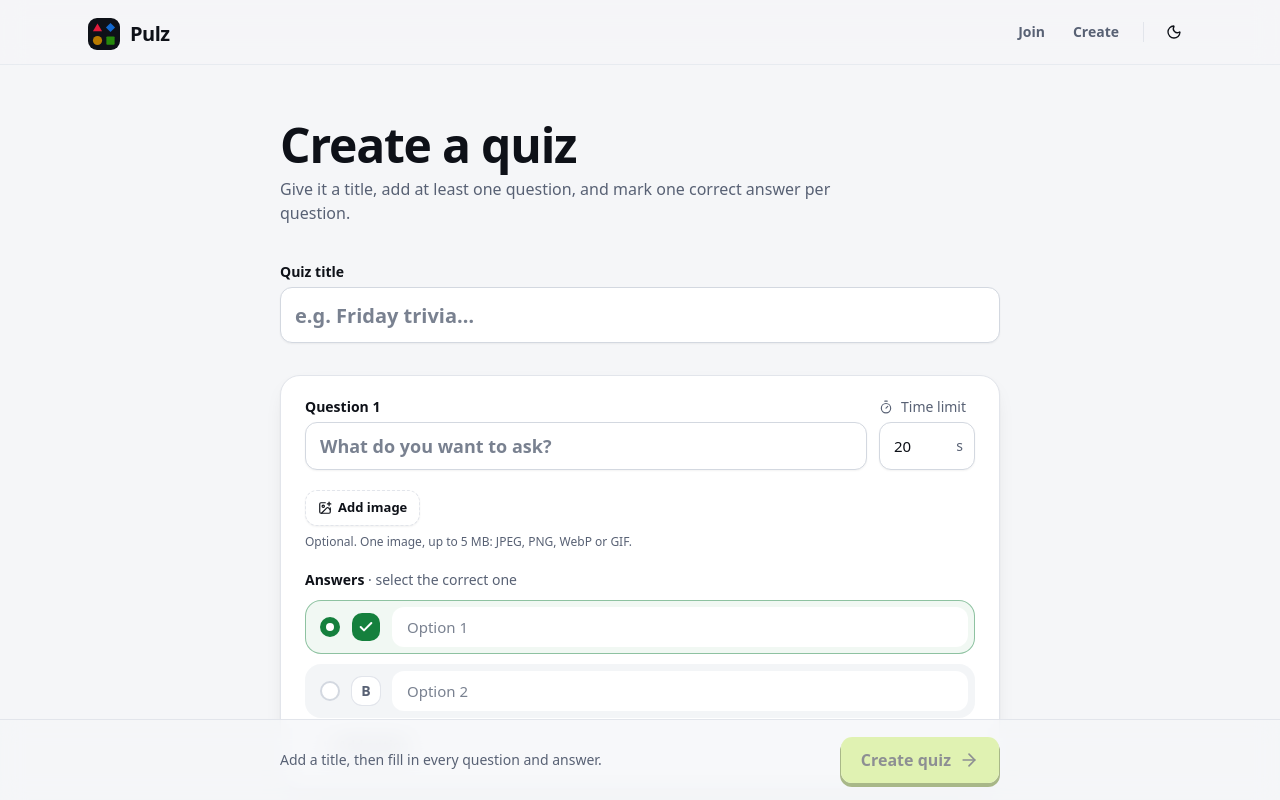
Test case: CreateQuizPage › disables Create quiz until the title and question are filled in
Check: the button "Create quiz" is disabled, box [840,736,1000,784]
Type "General Knowledge" into the field labelled "Quiz title" at (640, 315), box [280,287,1000,343]
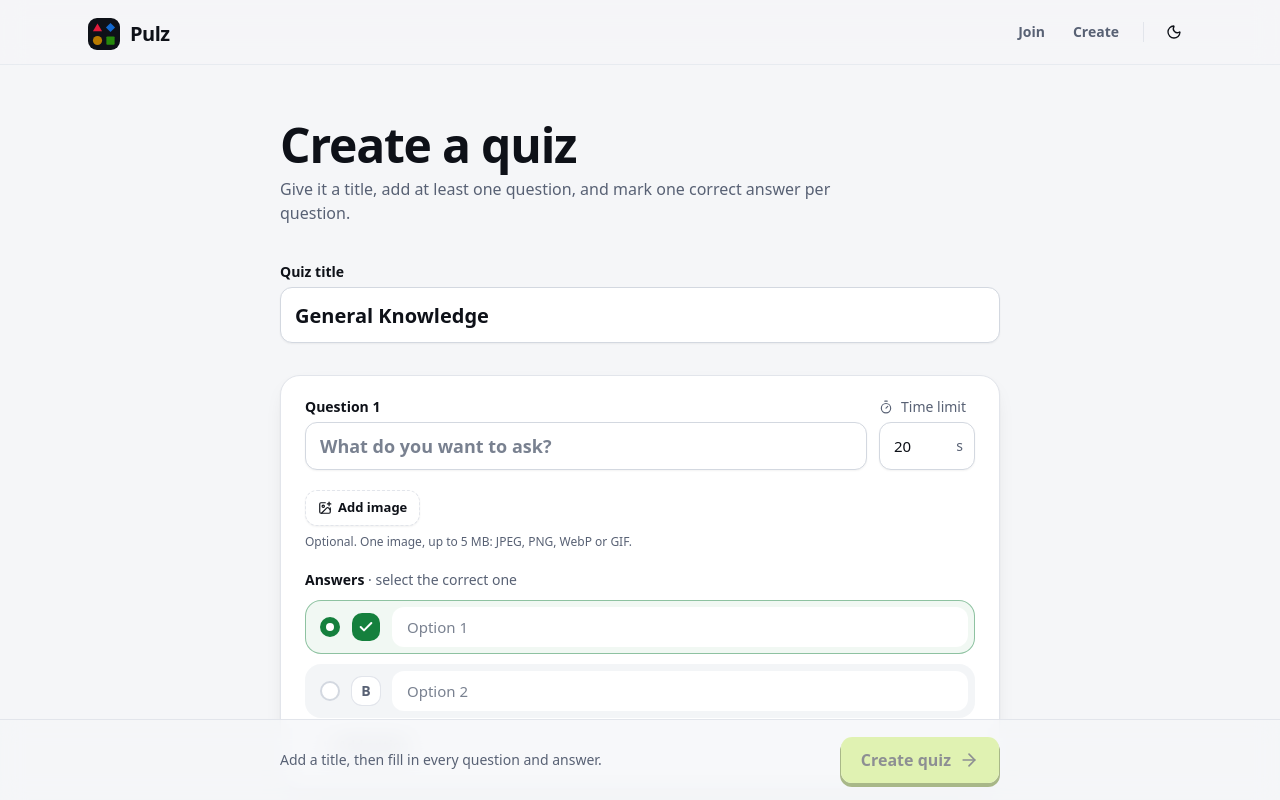
Type "What is 2 + 2?" into the field labelled "Question 1" at (586, 446), box [305,422,867,470]
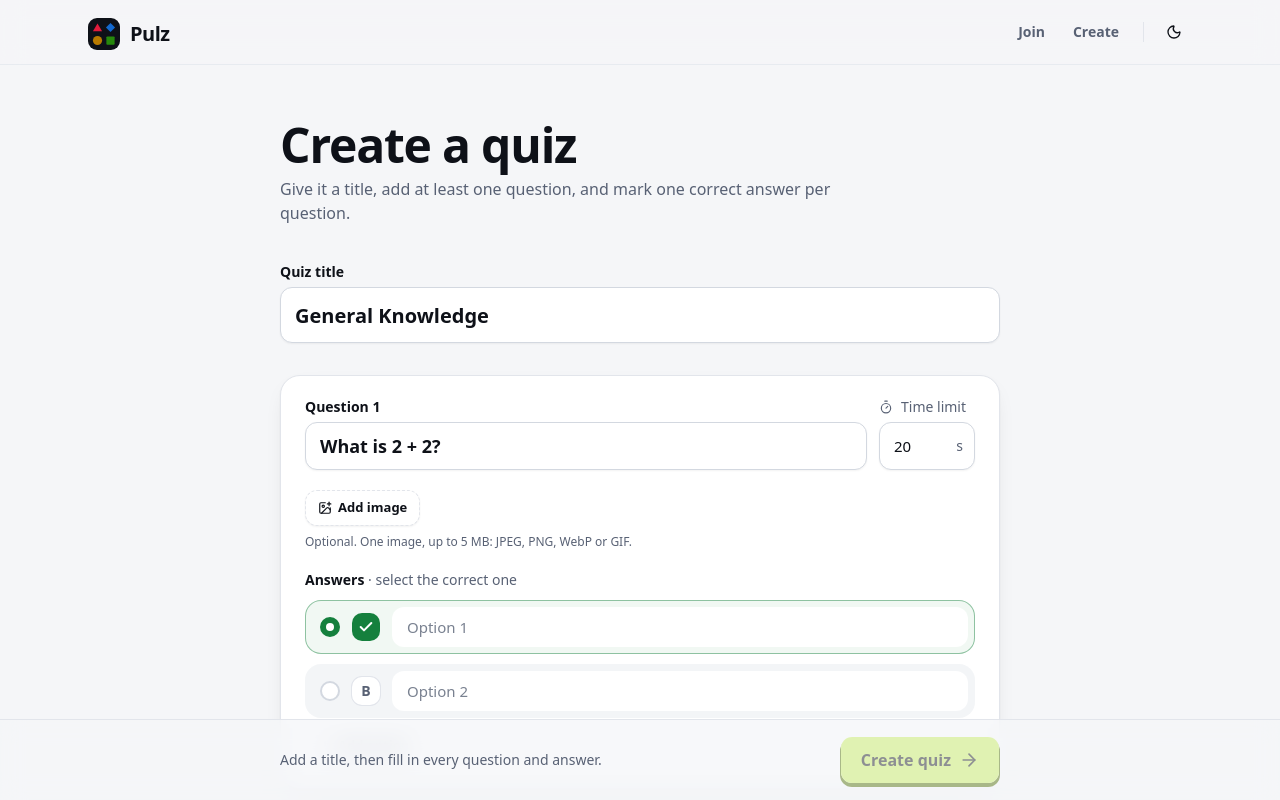
Type "3" into the field with placeholder "Option 1" at (680, 627), box [392,607,968,647]
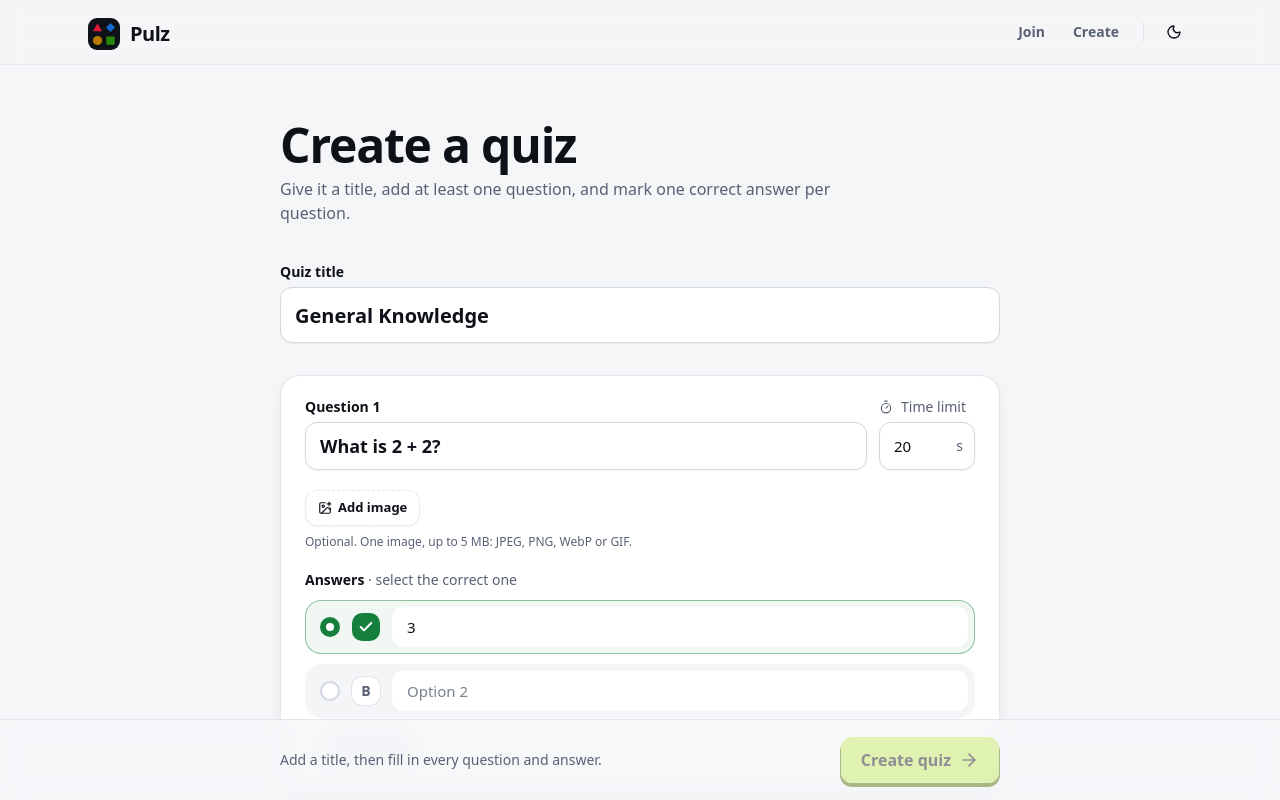
Type "4" into the field with placeholder "Option 2" at (680, 691), box [392,671,968,711]
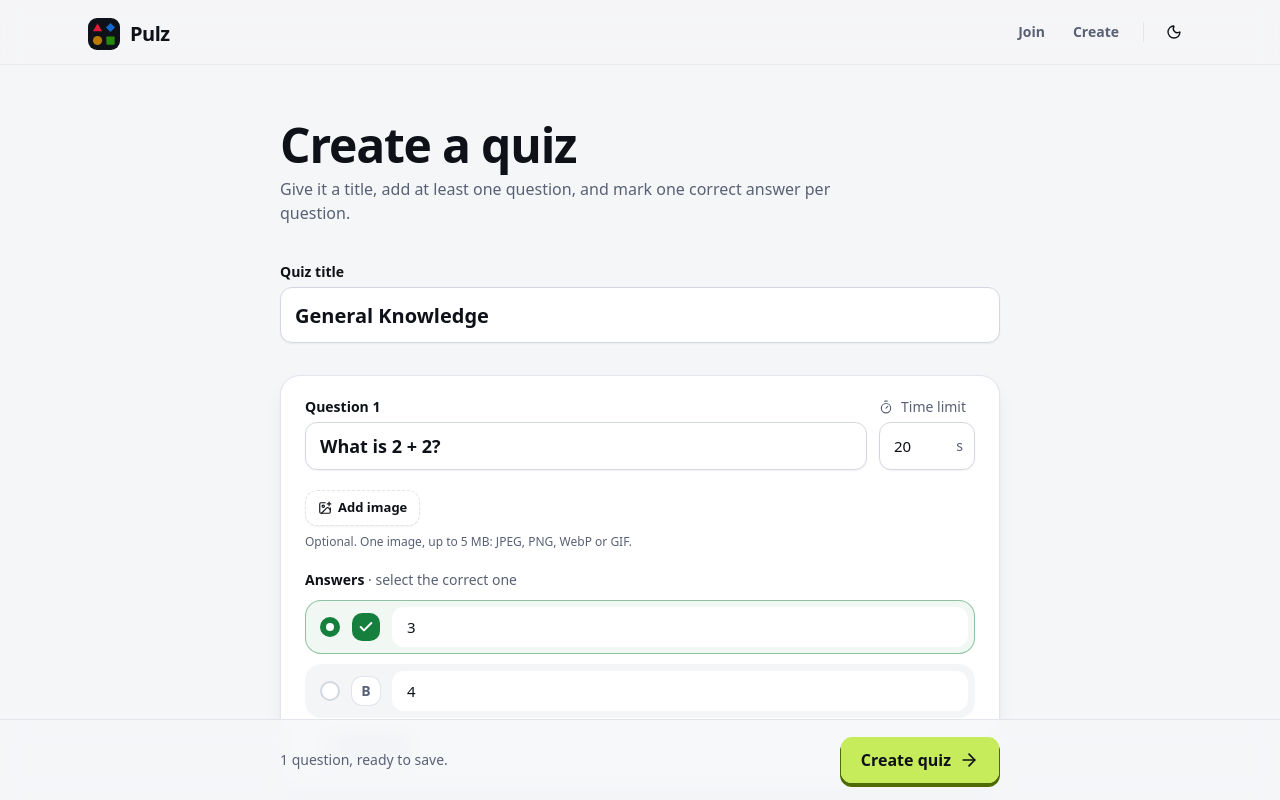
Check: the button "Create quiz" is enabled, box [840,736,1000,784]
